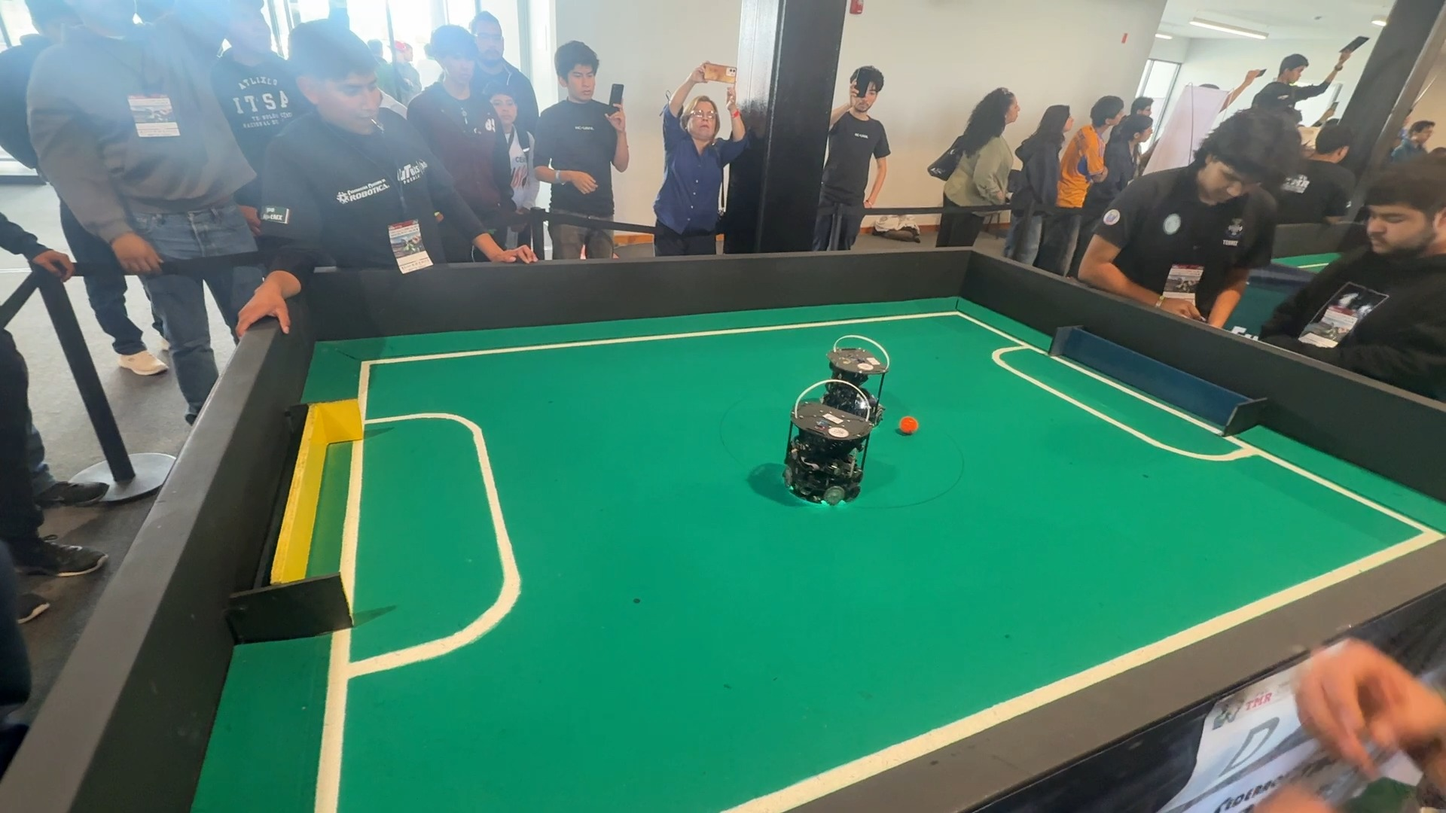Robot: (784, 384, 878, 521), (819, 333, 892, 414)
pelota: (895, 415, 923, 442)
